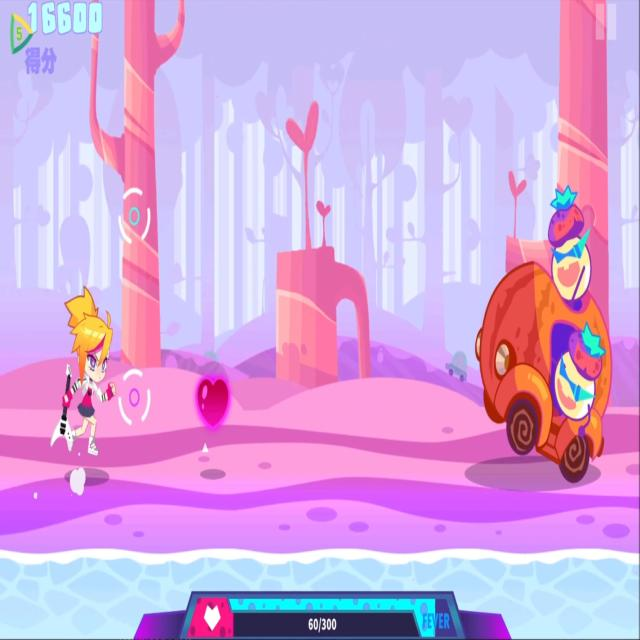cheboss: (470, 177, 615, 489)
xin: (187, 364, 239, 446)
